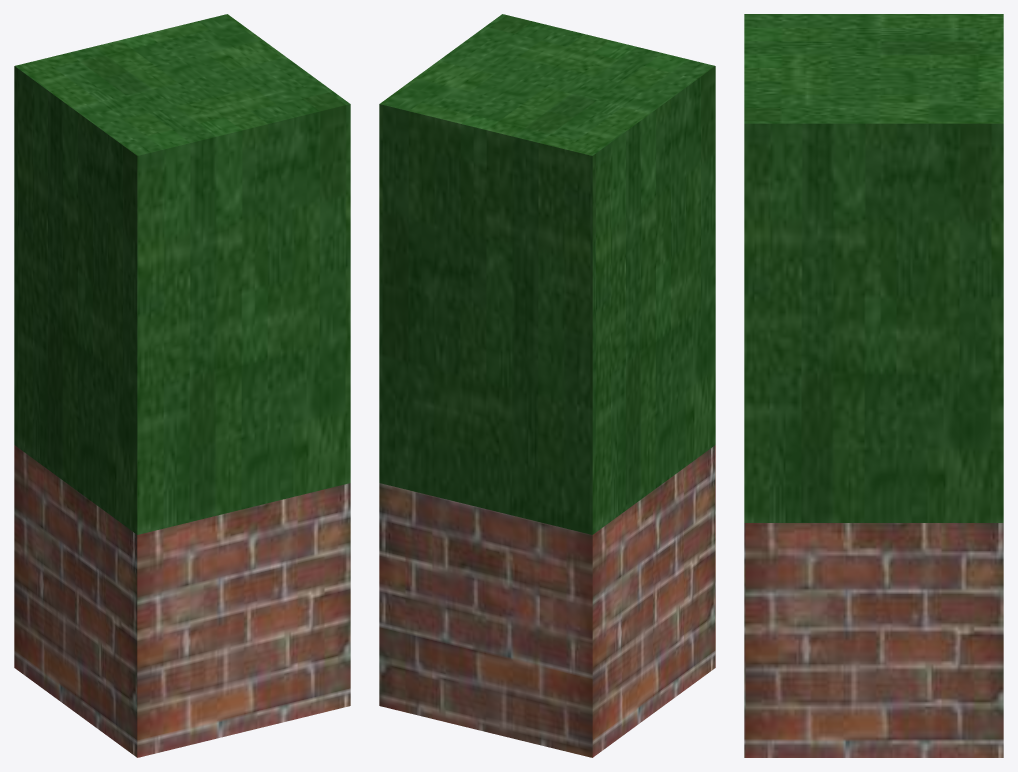
File: tree1.obj
The picture shows the model from 3 angles, left to right: view 1: azimuth 30°, elevation 25°; view 2: azimuth 150°, elevation 25°; view 3: azimuth 270°, elevation 25°; orthographic projection. The views are drawn at different scales.
Visible parts, largest first — view 1: tree_up, tree_under; view 2: tree_up, tree_under; view 3: tree_up, tree_under.
Part boxes in pixels (left/top/right/bottom): tree_up: left=14, top=14, right=350, bottom=534; tree_under: left=14, top=445, right=350, bottom=757; tree_up: left=379, top=14, right=715, bottom=534; tree_under: left=379, top=445, right=715, bottom=757; tree_up: left=744, top=14, right=1003, bottom=522; tree_under: left=744, top=523, right=1003, bottom=757.
Size of the model in its own units: 1 by 2.7 by 1.
2 materials, 2 textured.
